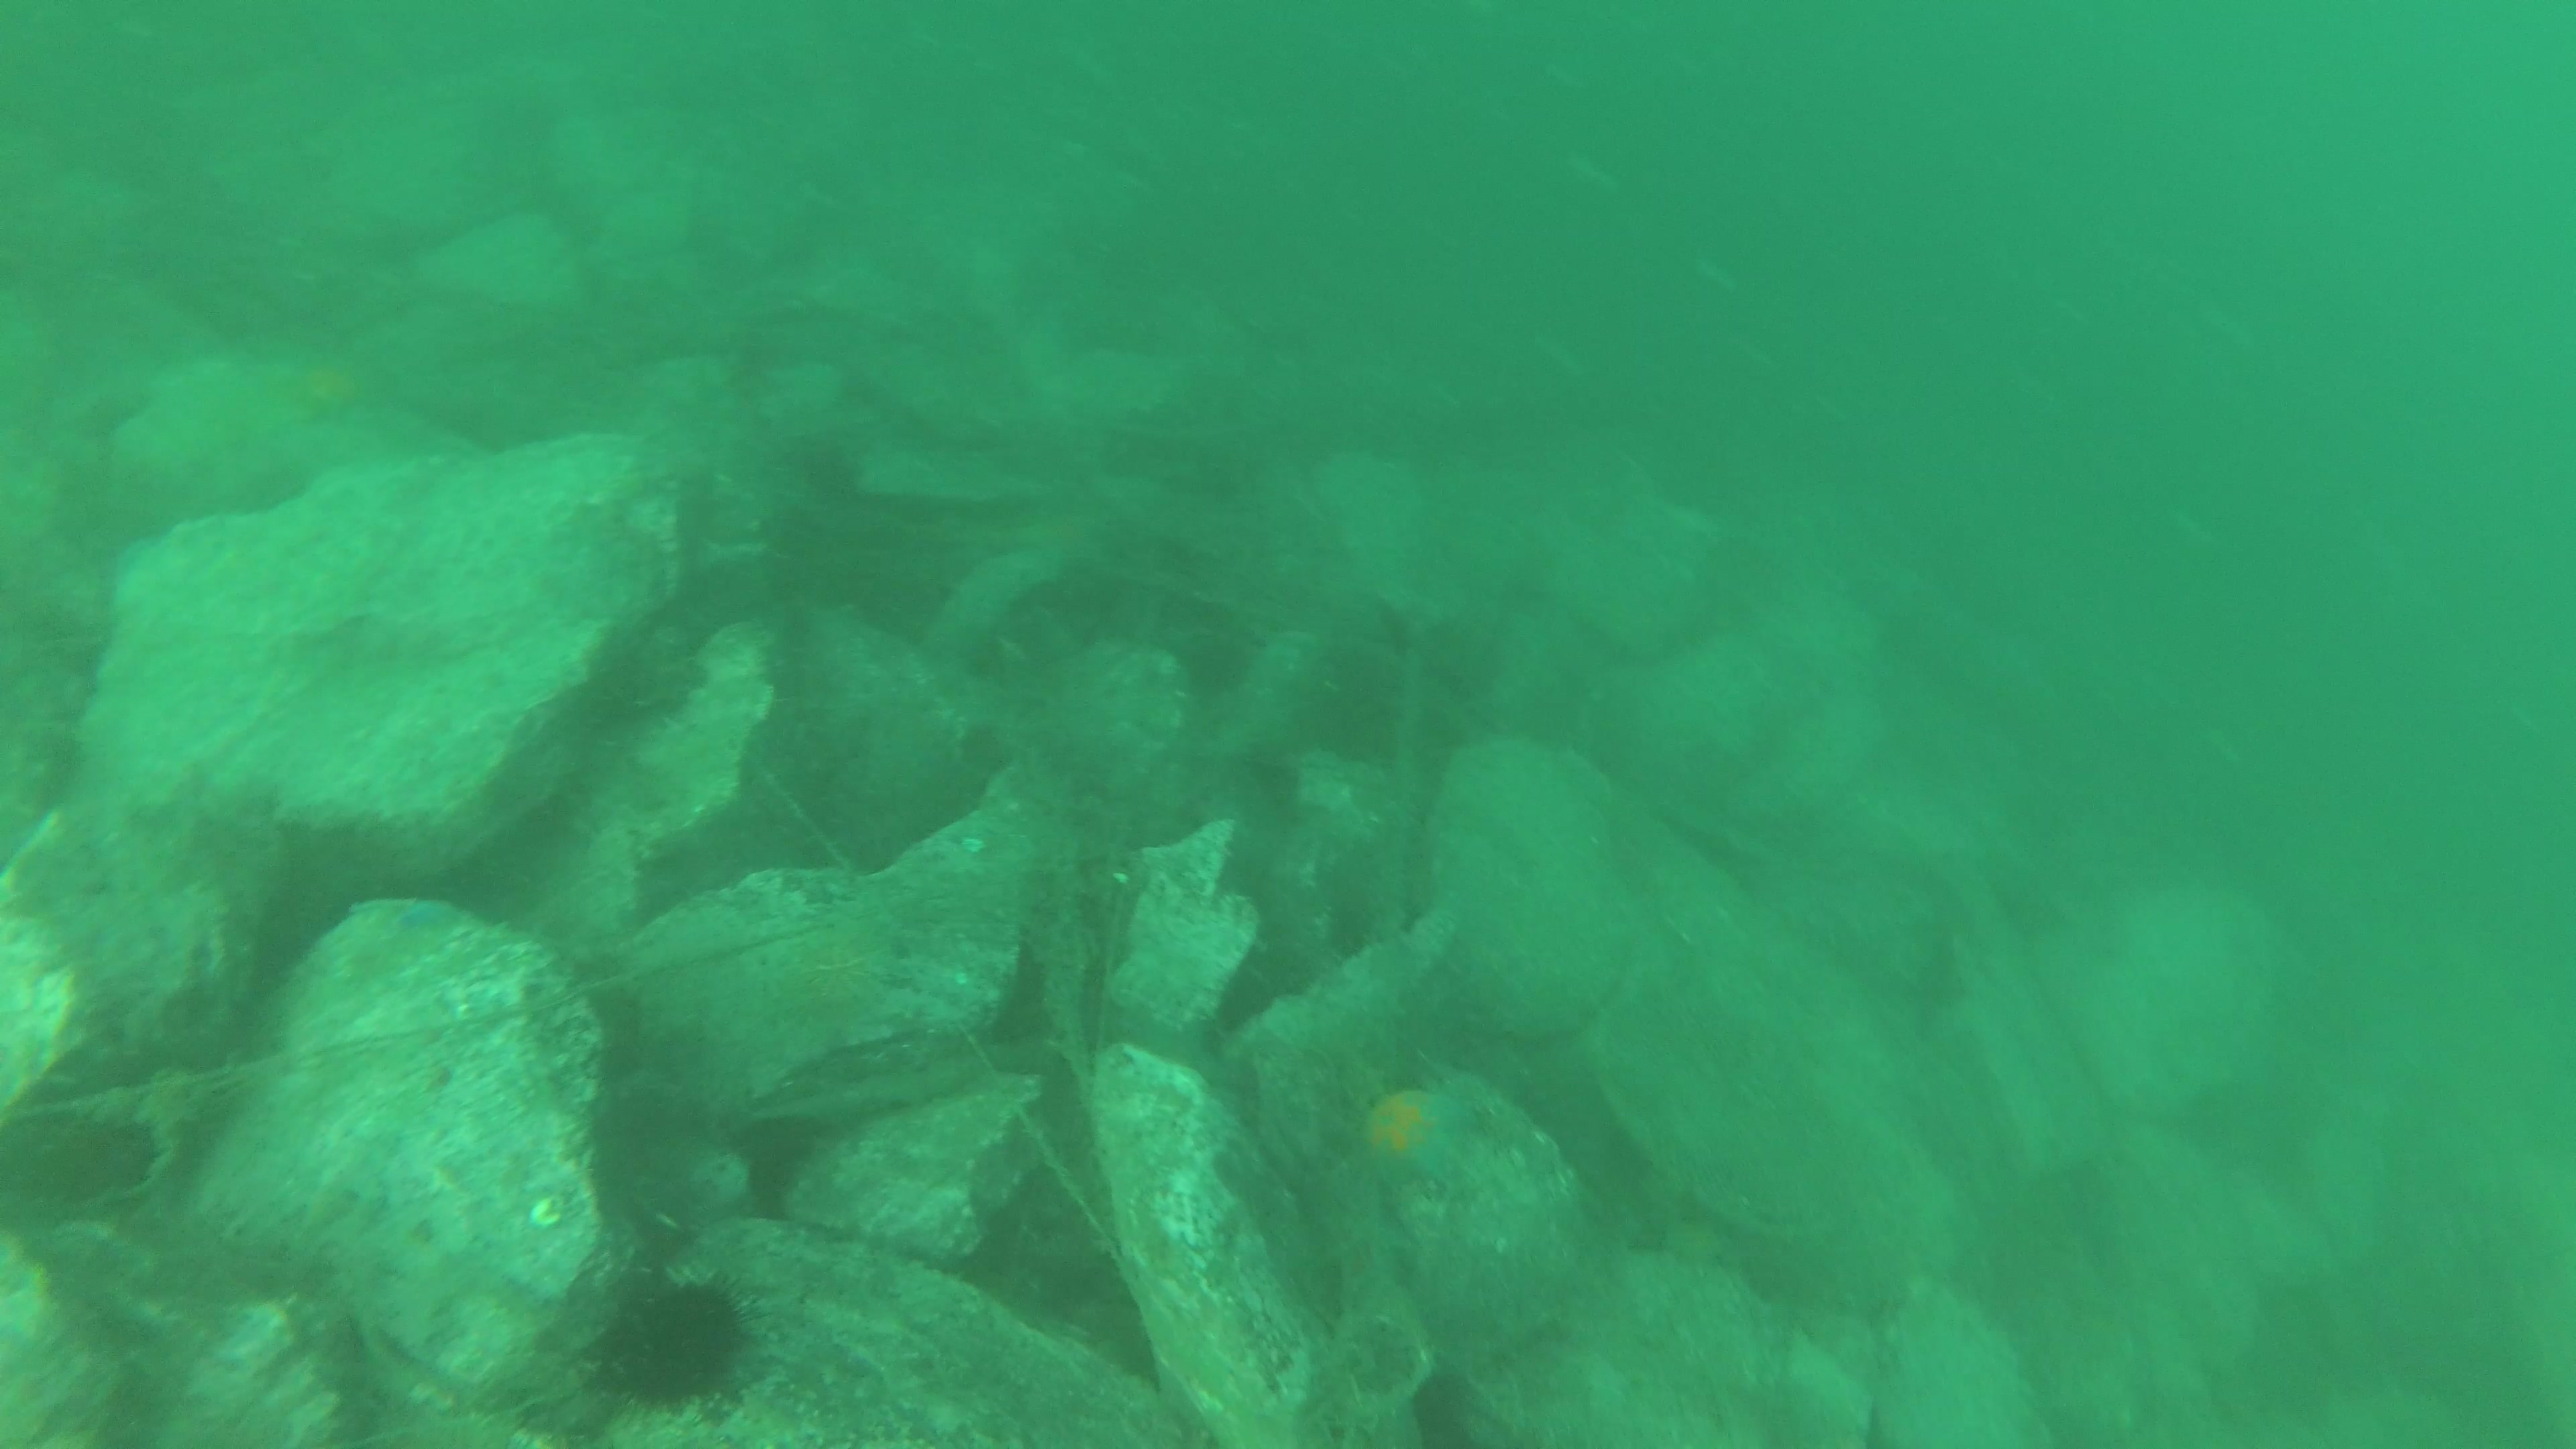echinus: (571, 1270, 777, 1419)
starfish: (1345, 1077, 1499, 1200), (260, 347, 405, 448)
